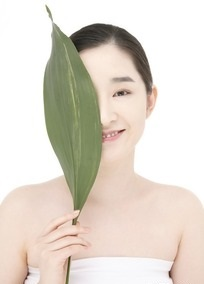face: (70, 46, 144, 167)
